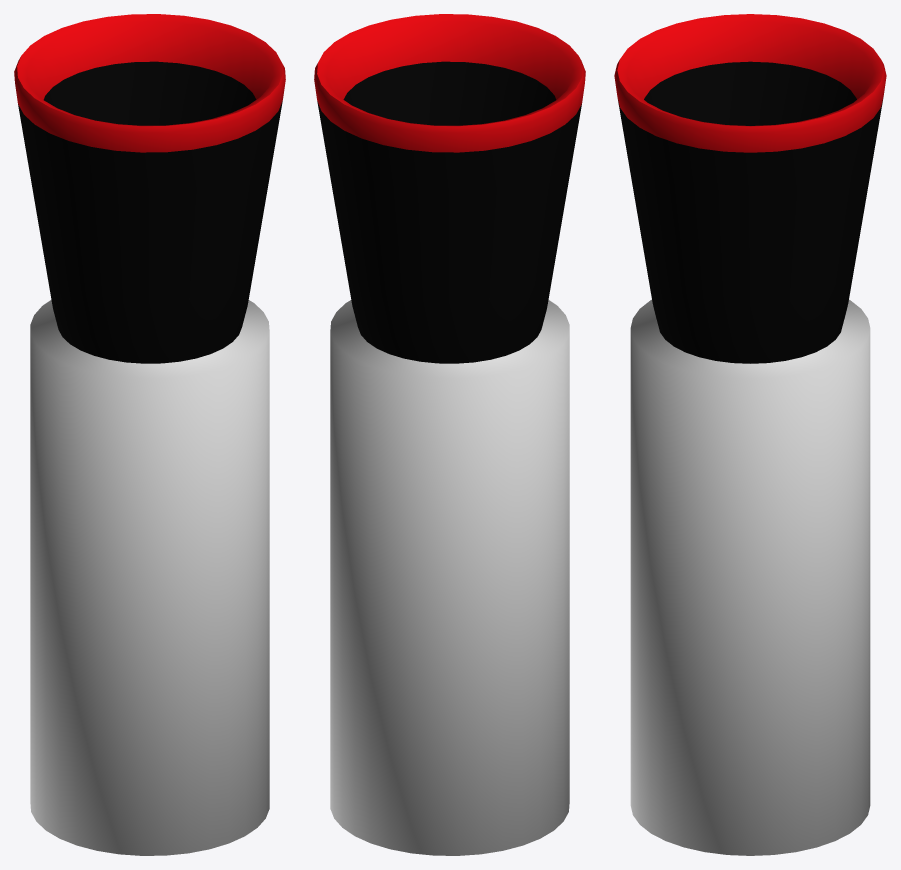
File: RocketLauncher.fbx
The picture shows the model from 3 angles, left to right: view 1: azimuth 30°, elevation 25°; view 2: azimuth 150°, elevation 25°; view 3: azimuth 270°, elevation 25°; orthographic projection.
Visible parts, largest first — view 1: RocketHidding, RocketLauncher; view 2: RocketHidding, RocketLauncher; view 3: RocketHidding, RocketLauncher.
Part boxes in pixels (x1,y1,x2,y2): RocketHidding: [30, 300, 269, 855]; RocketLauncher: [14, 14, 285, 363]; RocketHidding: [330, 300, 569, 855]; RocketLauncher: [314, 14, 585, 363]; RocketHidding: [630, 299, 870, 855]; RocketLauncher: [614, 14, 886, 363].
Bounding box in the file's own units: 2.7 × 8.04 × 2.7.
